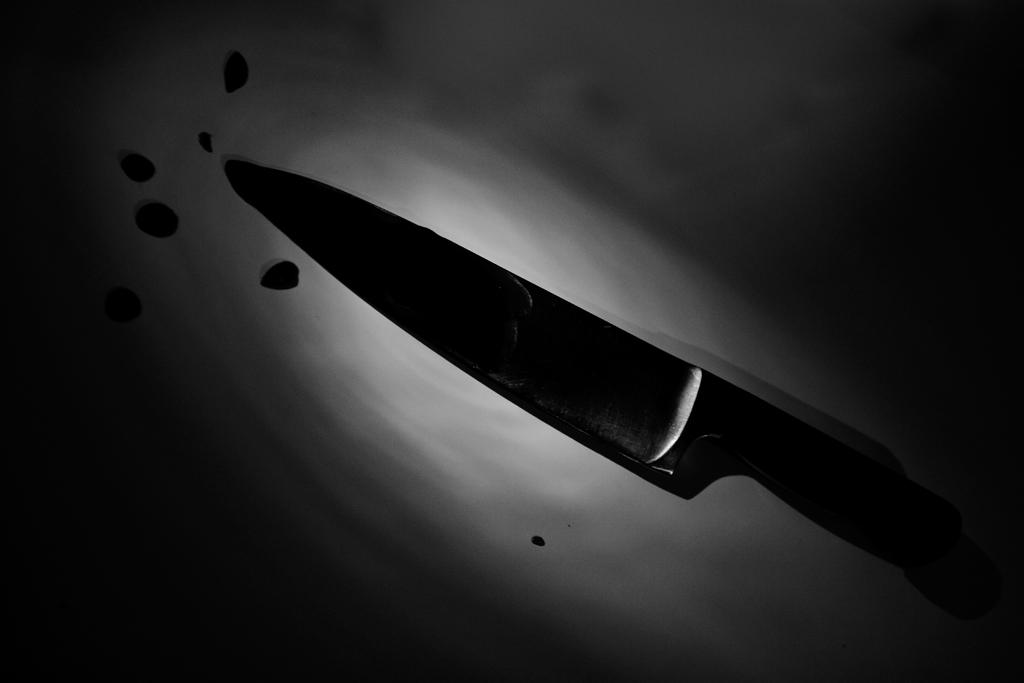Knife: (220, 158, 1023, 630)
